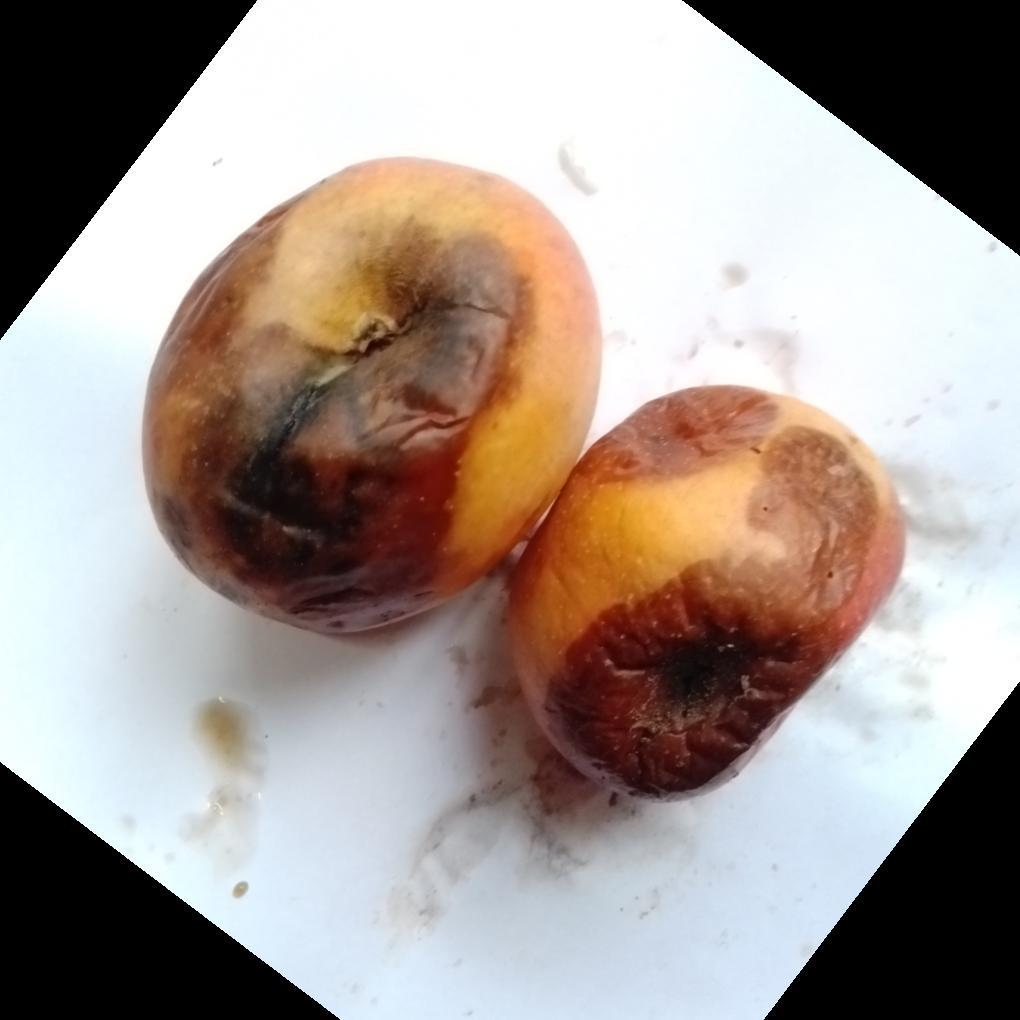FreshOrange: (142, 158, 906, 799)
